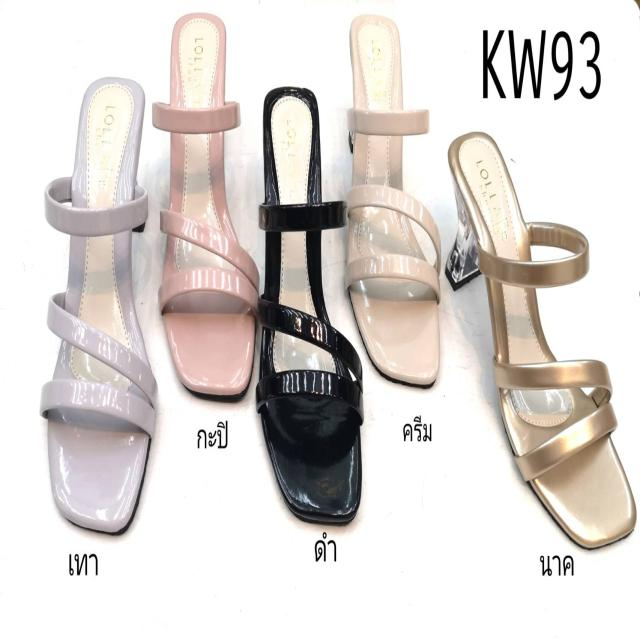black: (258, 87, 362, 523)
cream: (347, 7, 440, 385)
grey: (44, 79, 148, 517)
kapi: (164, 15, 252, 401)
nak: (454, 138, 632, 547)
